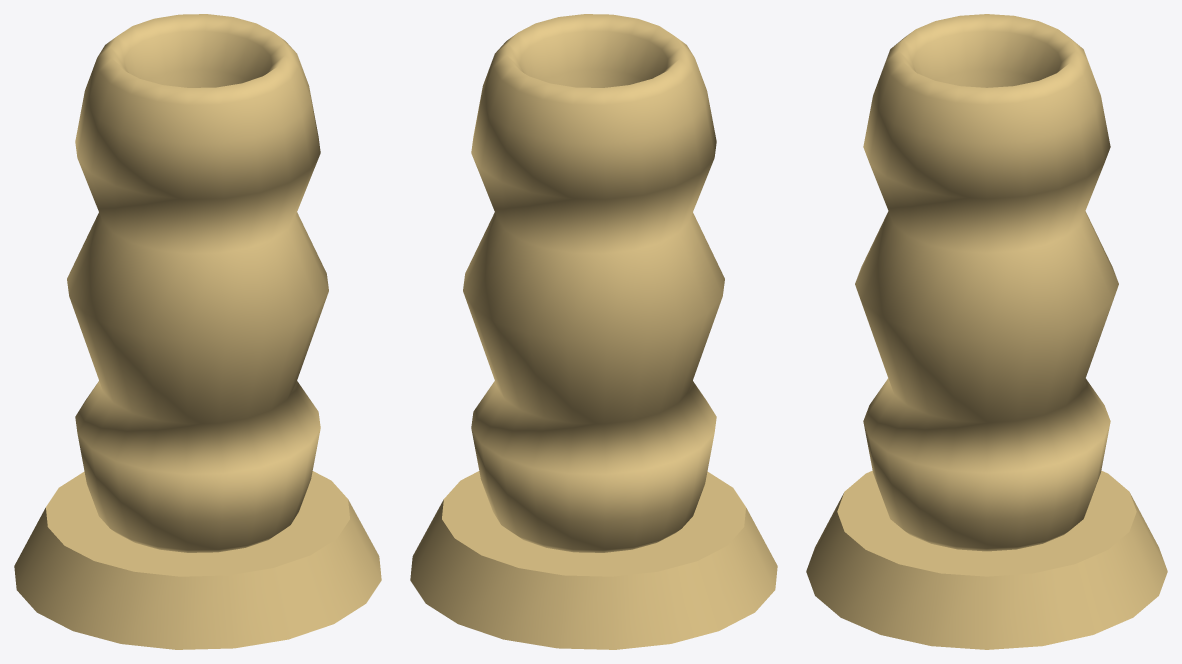
File: Pottery1.fbx
3 renders of one model, left to right at view 1: azimuth 30°, elevation 25°; view 2: azimuth 150°, elevation 25°; view 3: azimuth 270°, elevation 25°, orthographic.
Parts seen in each view (by area): view 1: pTorus1; view 2: pTorus1; view 3: pTorus1.
Part boxes in pixels (left/top/right/bottom): pTorus1: left=14, top=14, right=381, bottom=649; pTorus1: left=410, top=14, right=777, bottom=649; pTorus1: left=806, top=14, right=1167, bottom=649.
Bounding box in the file's own units: 13315 × 20606 × 12976.
